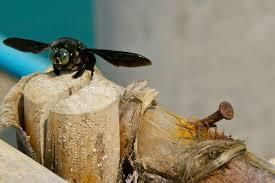Xylocopa: (5, 25, 158, 85)
